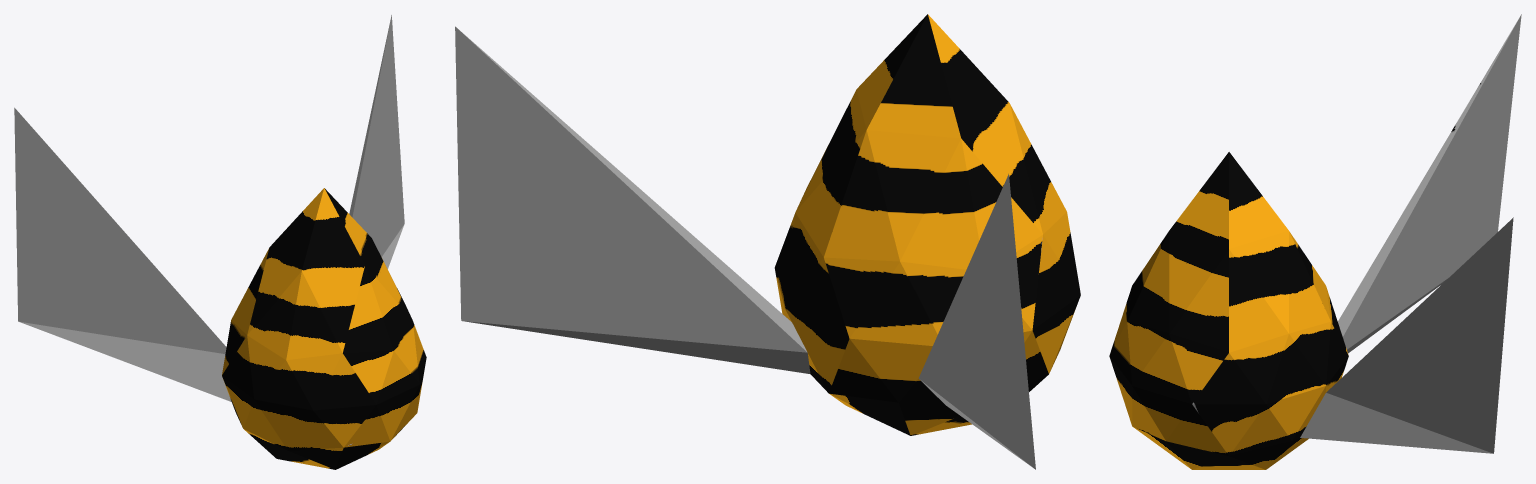
Rendered from bee.dae.
The picture shows the model from 3 angles, left to right: view 1: azimuth 30°, elevation 25°; view 2: azimuth 150°, elevation 25°; view 3: azimuth 270°, elevation 25°; orthographic projection. The views are drawn at different scales.
Parts seen in each view (by area): view 1: Bee; view 2: Bee; view 3: Bee.
Part boxes in pixels (bbox=[...]): Bee: bbox=[14, 15, 426, 469]; Bee: bbox=[455, 14, 1080, 469]; Bee: bbox=[1109, 14, 1521, 469].
Bounding box in the file's own units: 0.00577 × 0.00467 × 0.00443.
1 material, 1 textured.
